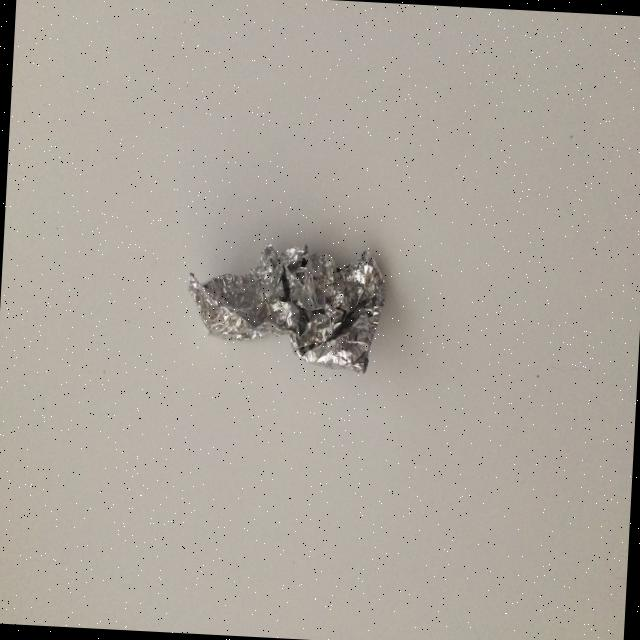metal: (184, 236, 388, 375)
